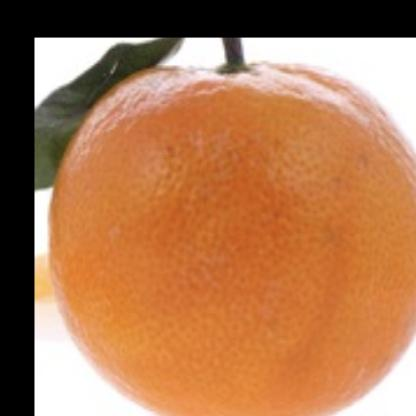fresh: (46, 50, 416, 416)
